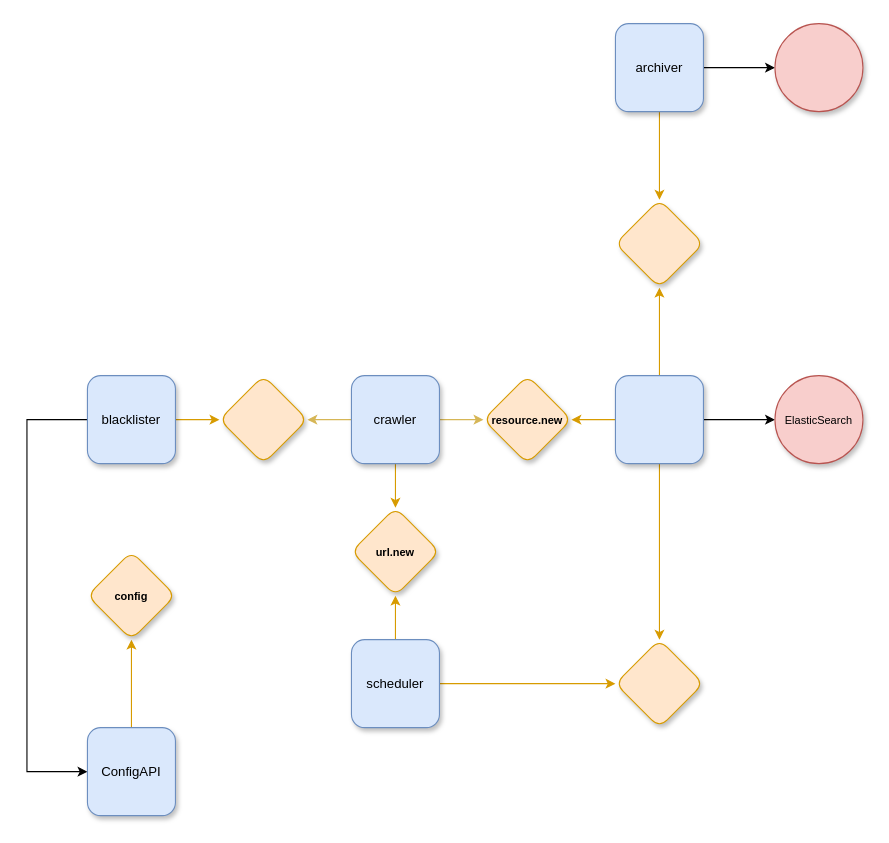
Image size: 889x843. Some labels were removed from this diagram. Here are the shapes that lost their labels. From the top down, the centre of each, then its label:
At point (819, 68): "Cold storage".
At point (660, 244): "index.new".
At point (264, 420): "url.timeout".
At point (660, 420): "Indexer".
At point (660, 684): "url.found".
